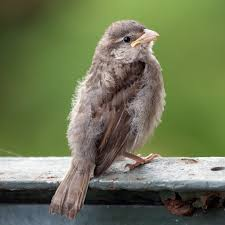hsparrow: (46, 15, 168, 223)
